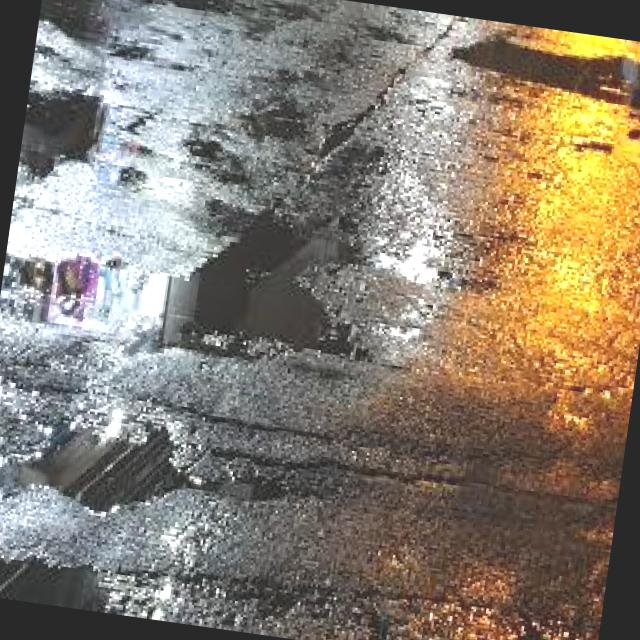stagnation: (0, 94, 424, 414), (0, 392, 327, 521), (438, 25, 640, 127), (17, 64, 127, 186), (0, 550, 145, 615)
